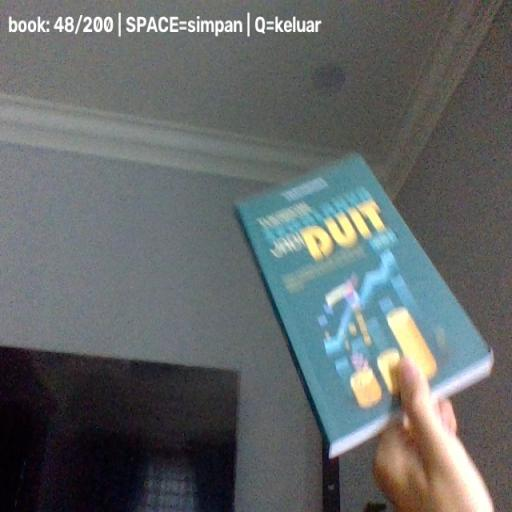Book: (234, 152, 494, 458)
